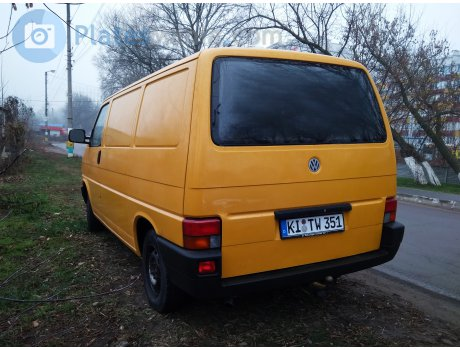License Plates: (285, 216, 341, 226)
